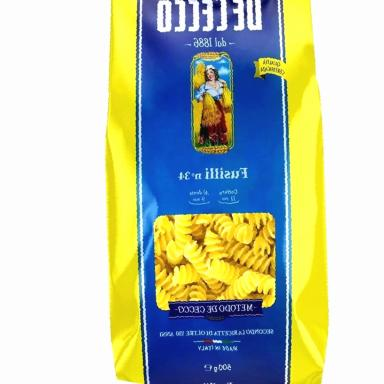pasta package: (107, 0, 327, 383)
